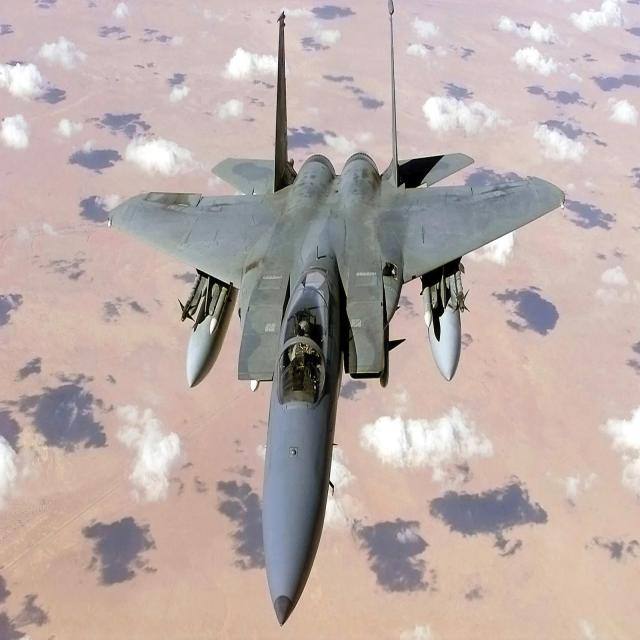F15: (90, 0, 591, 640)
